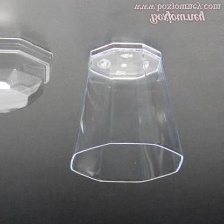glass: (64, 37, 189, 186)
